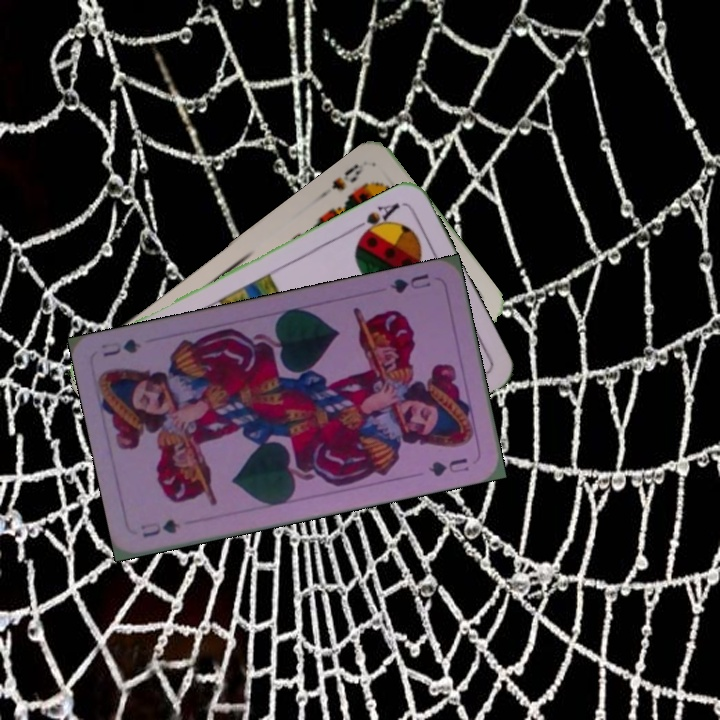GU: (386, 269, 433, 296), (136, 515, 183, 541)
S8: (319, 156, 372, 198)
SA: (349, 198, 402, 242)
